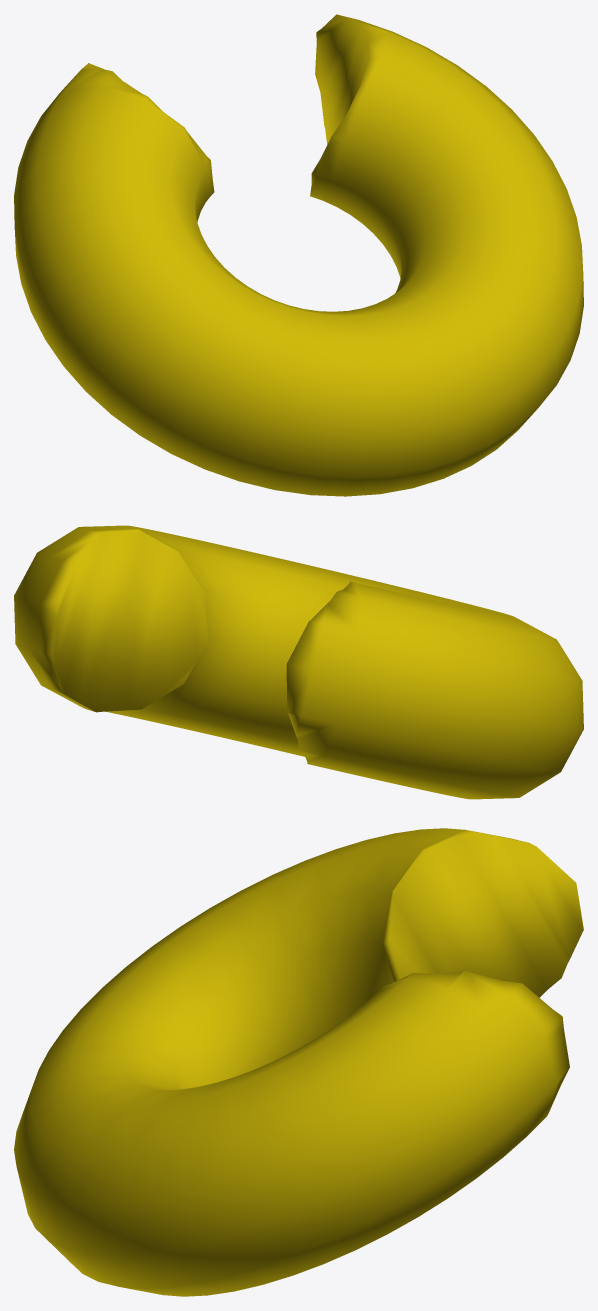
File: tactir(gold).obj
3 views of the same model, one above another, from view 1: azimuth 30°, elevation 25°; view 2: azimuth 150°, elevation 25°; view 3: azimuth 270°, elevation 25° (orthographic). The views are drawn at different scales.
Visible parts, largest first — view 1: Torus; view 2: Torus; view 3: Torus.
Boxes of the visible parts, x1,y1,x2,y2 form: Torus: [14, 14, 583, 496]; Torus: [14, 525, 583, 799]; Torus: [14, 828, 583, 1296].
Bounding box in the file's own units: 1.02 × 0.6112 × 0.8904.
